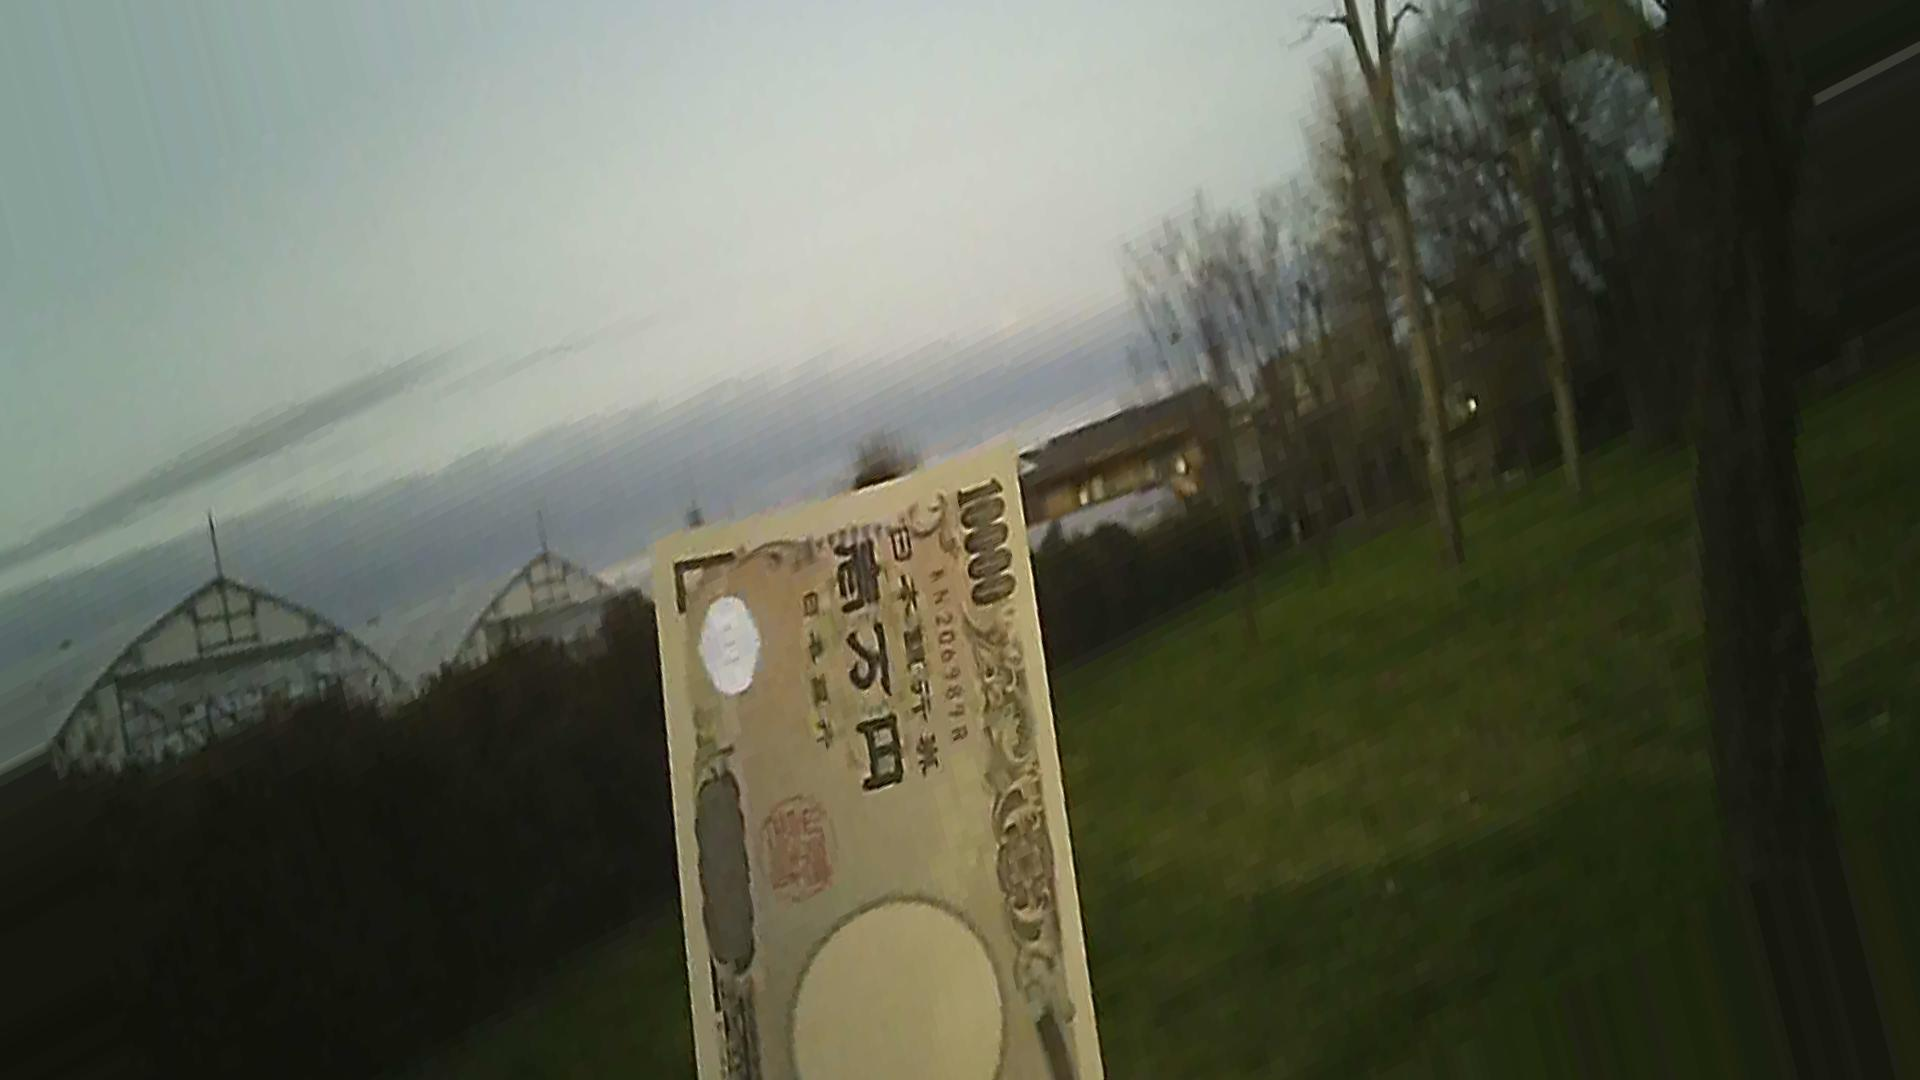10,000 Yen: (624, 472, 1102, 1079)
